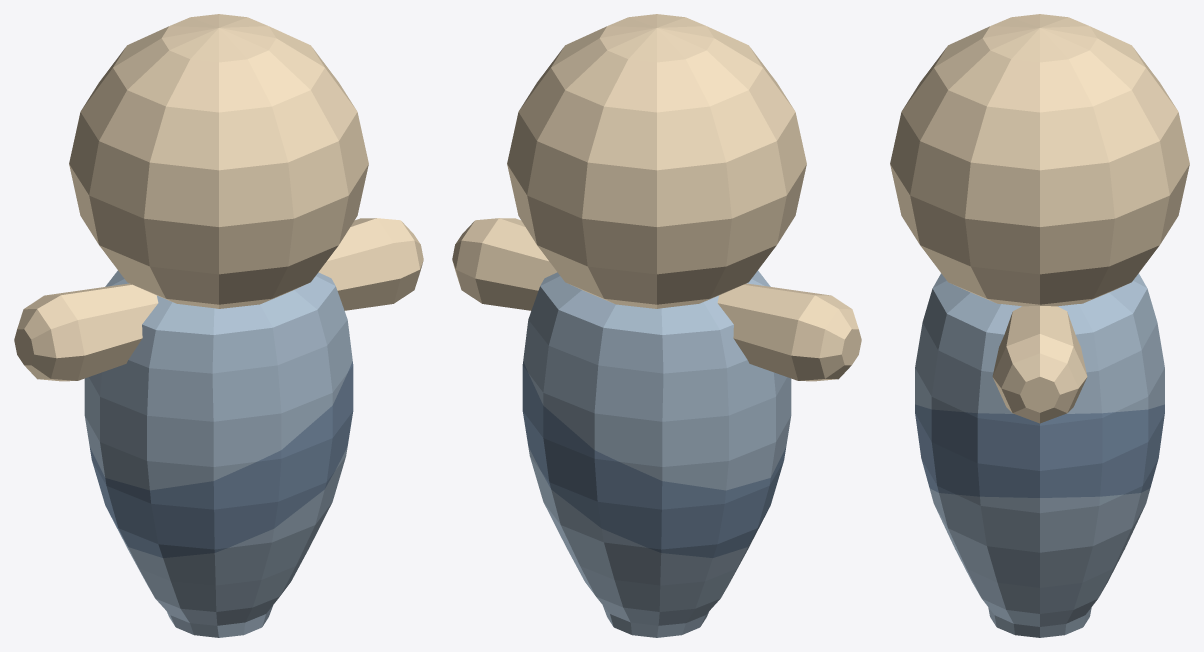
Rendered from KANJI_22_KO.fbx.
3 views of the same model, side by side, from view 1: azimuth 30°, elevation 25°; view 2: azimuth 150°, elevation 25°; view 3: azimuth 270°, elevation 25° (orthographic).
Parts seen in each view (by area): view 1: SM_KANJI_22_Ko; view 2: SM_KANJI_22_Ko; view 3: SM_KANJI_22_Ko.
Boxes of the visible parts, bbox=[...] form: SM_KANJI_22_Ko: bbox=[14, 14, 423, 637]; SM_KANJI_22_Ko: bbox=[452, 14, 861, 637]; SM_KANJI_22_Ko: bbox=[890, 14, 1189, 637].
Bounding box in the file's own units: 0.18 × 0.26 × 0.12.
